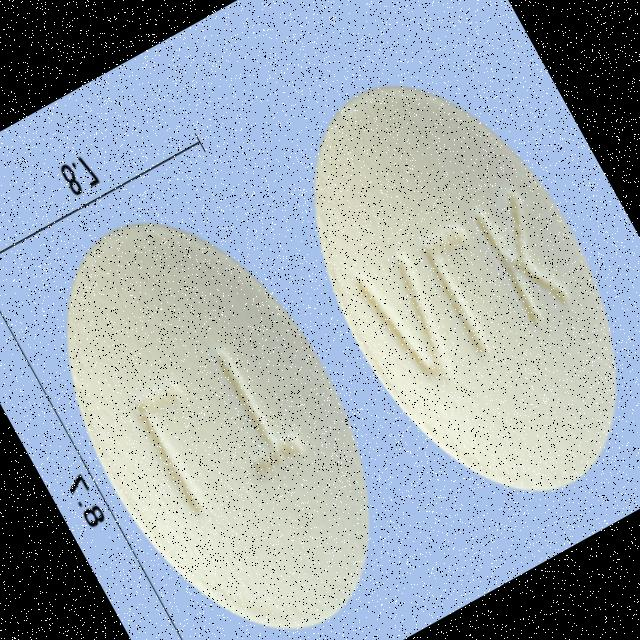Levotam: (4, 170, 434, 640), (252, 35, 640, 545)
